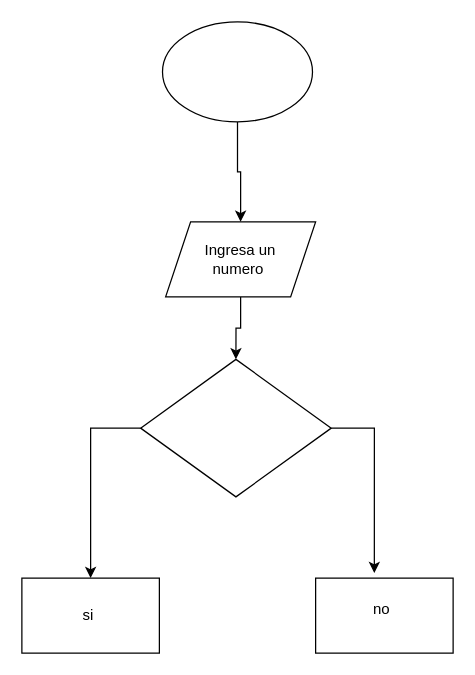
Some shapes in this 475 by 675 pixel diagram are drawn without their labels. The centre of each missing label's shape, as x and y in pixels:
"El numero es divisible por 2" belongs at (x=235, y=427).
"INICIO" belongs at (x=236, y=71).
